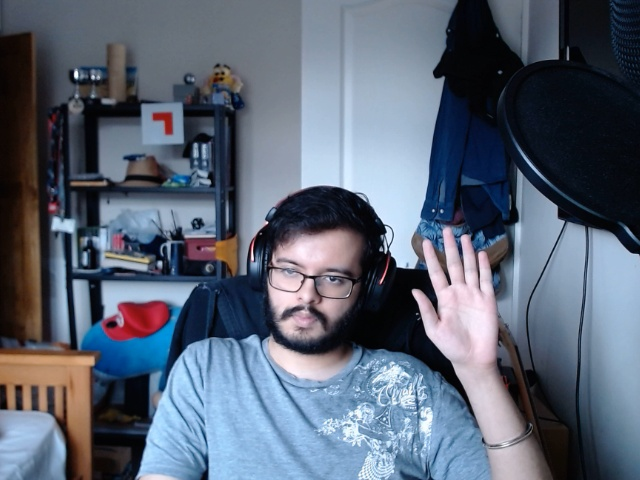Hello: (410, 217, 511, 382)
